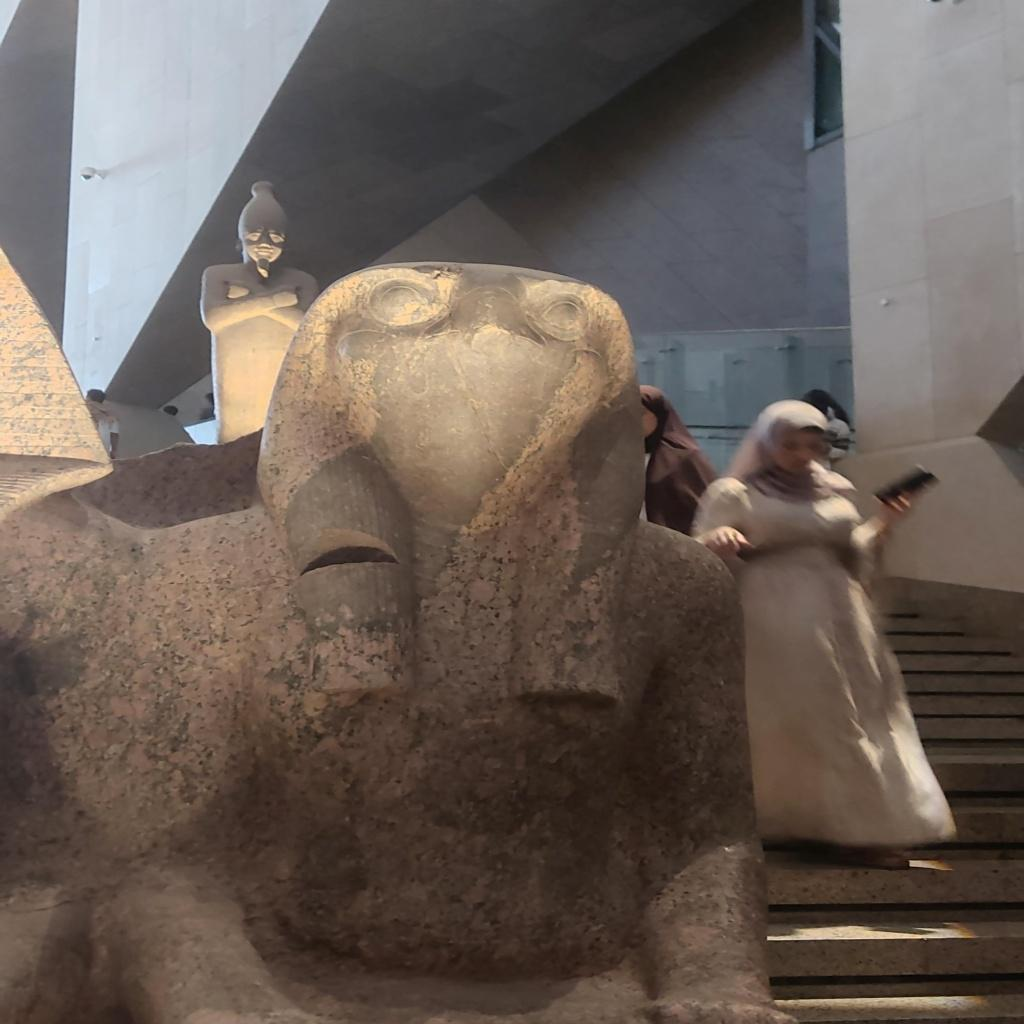Statue of Amenhotep III and God Re-Horakhty: (0, 250, 748, 996)
